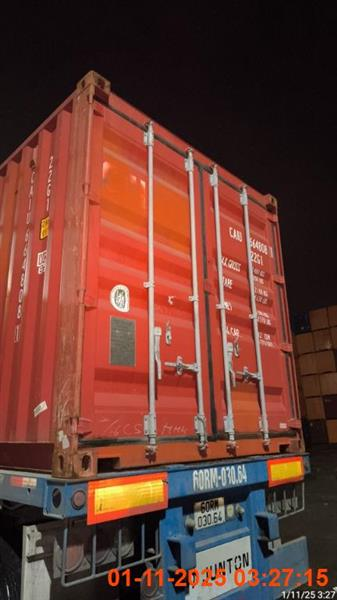broken: (0, 72, 313, 599)
